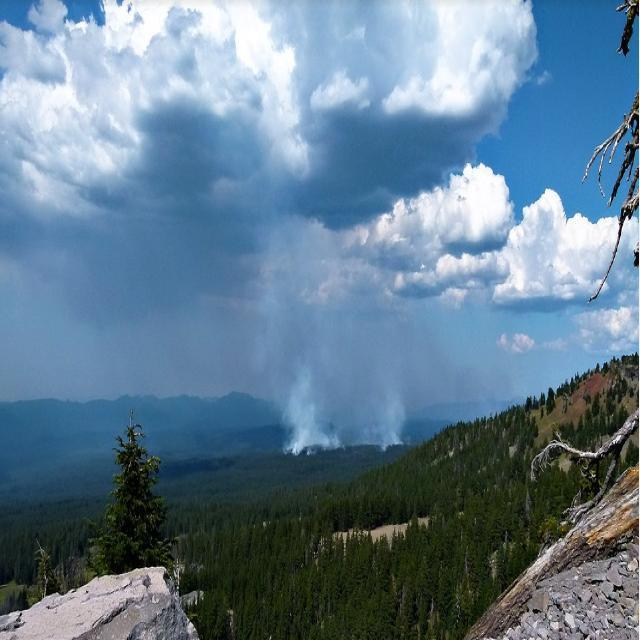Smoke: (282, 374, 346, 456), (362, 388, 404, 452)
